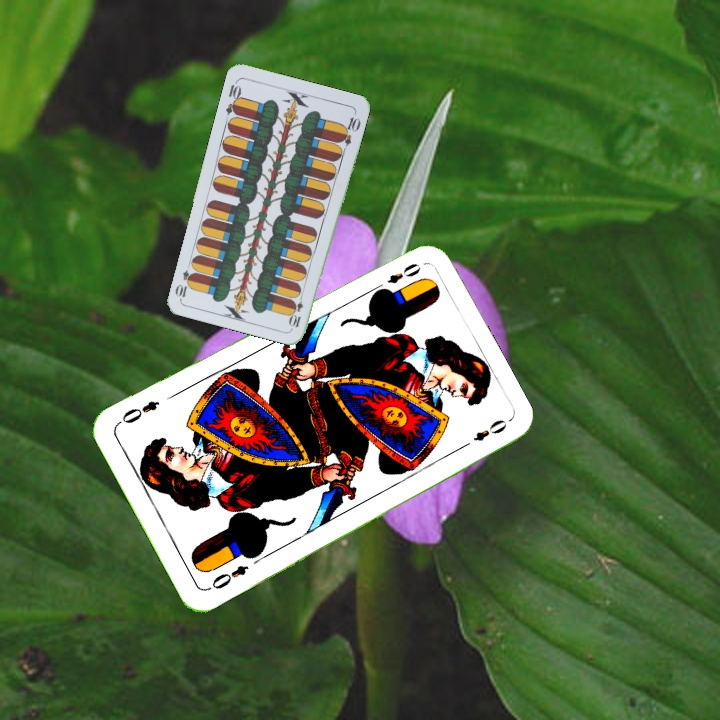E10: (222, 77, 244, 117), (287, 289, 306, 330)
EO: (370, 259, 424, 294), (203, 561, 251, 594)
